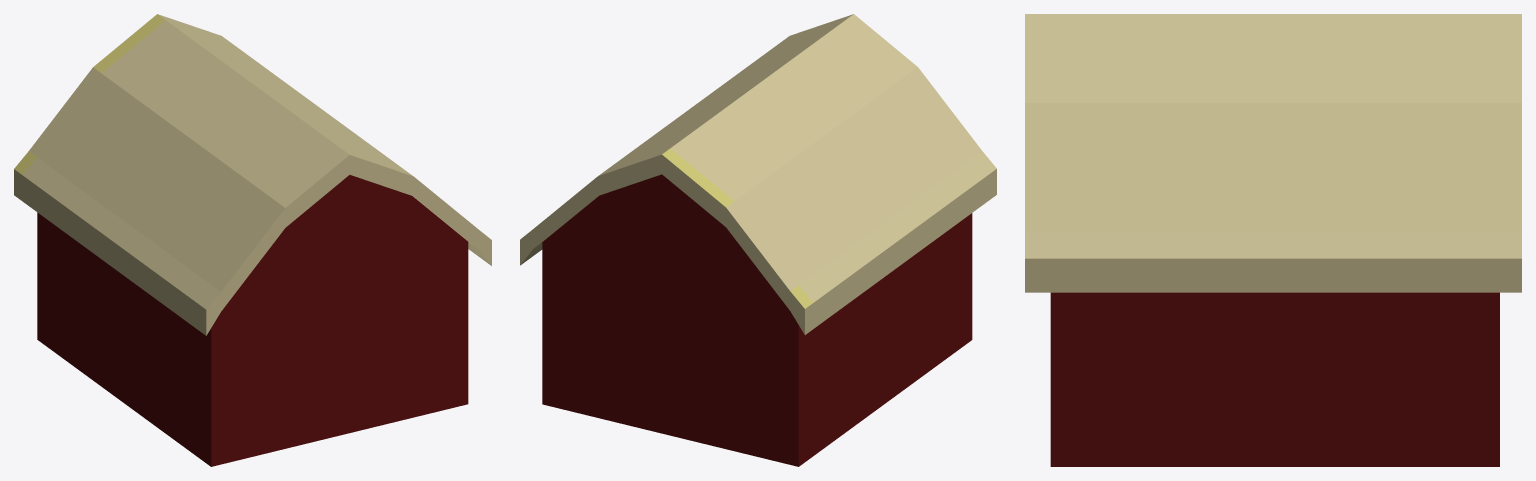
Rendered from granerin.obj.
The picture shows the model from 3 angles, left to right: view 1: azimuth 30°, elevation 25°; view 2: azimuth 150°, elevation 25°; view 3: azimuth 270°, elevation 25°; orthographic projection. The views are drawn at different scales.
Visible parts, largest first — view 1: Cube; view 2: Cube; view 3: Cube.
Boxes of the visible parts, x1=… form: Cube: x1=14, y1=14, x2=491, y2=466; Cube: x1=520, y1=14, x2=996, y2=466; Cube: x1=1025, y1=14, x2=1521, y2=466.
Bounding box in the file's own units: 4.7 × 4.53 × 5.48.
